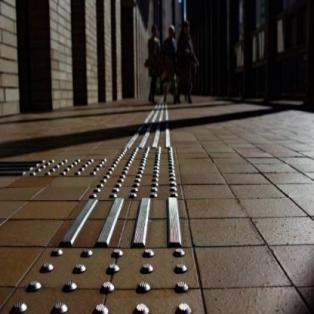Podoctatil: (0, 107, 192, 312)
